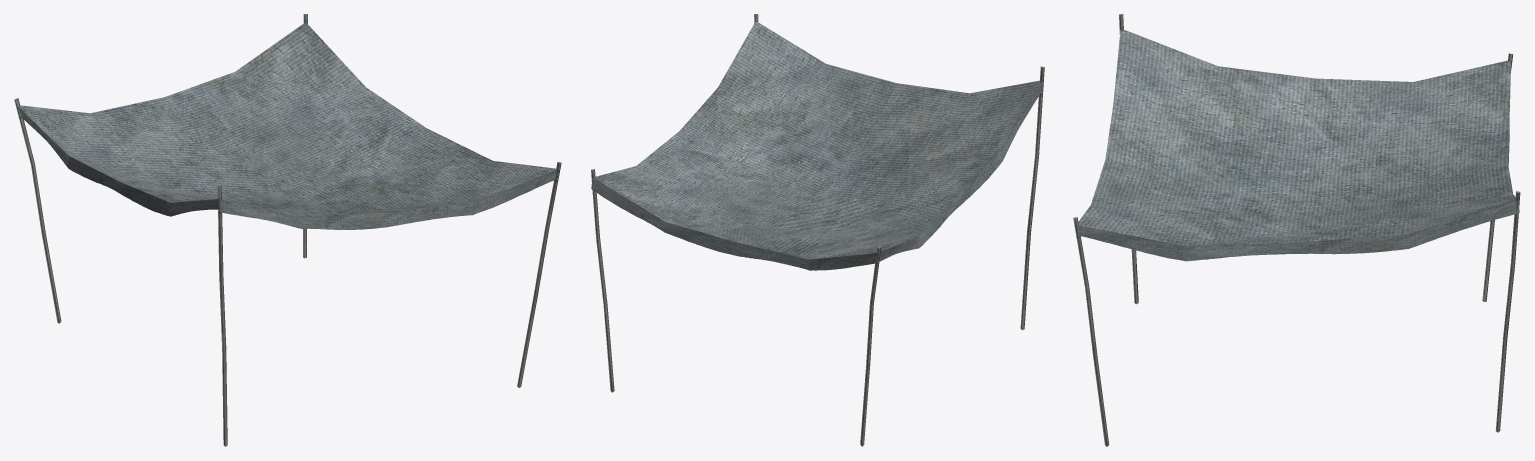
File: poi_all_tent_small_l1.fbx
The picture shows the model from 3 angles, left to right: view 1: azimuth 30°, elevation 25°; view 2: azimuth 150°, elevation 25°; view 3: azimuth 270°, elevation 25°; orthographic projection. The views are drawn at different scales.
Visible parts, largest first — view 1: mesh_node; view 2: mesh_node; view 3: mesh_node.
Boxes of the visible parts, x1,y1,x2,y2 form: mesh_node: (14, 14, 561, 446); mesh_node: (591, 14, 1044, 446); mesh_node: (1073, 14, 1520, 446).
Size of the model in its own units: 4.85 by 3.69 by 5.3.
